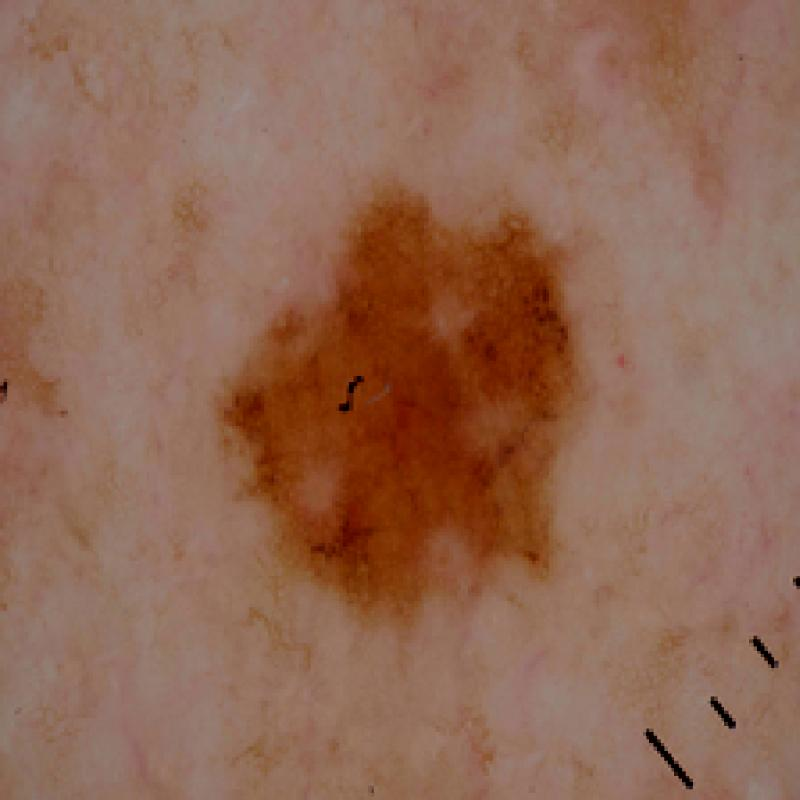benign: (204, 171, 620, 636)
